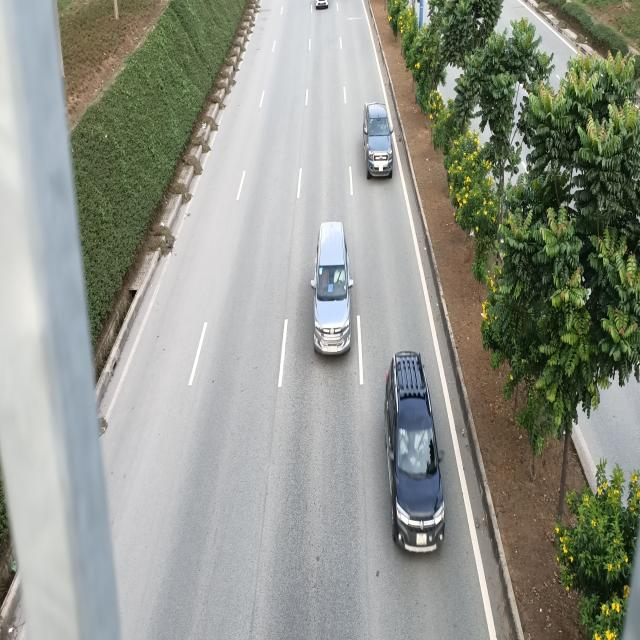car: (386, 350, 444, 550), (313, 222, 354, 356), (363, 104, 394, 182)
